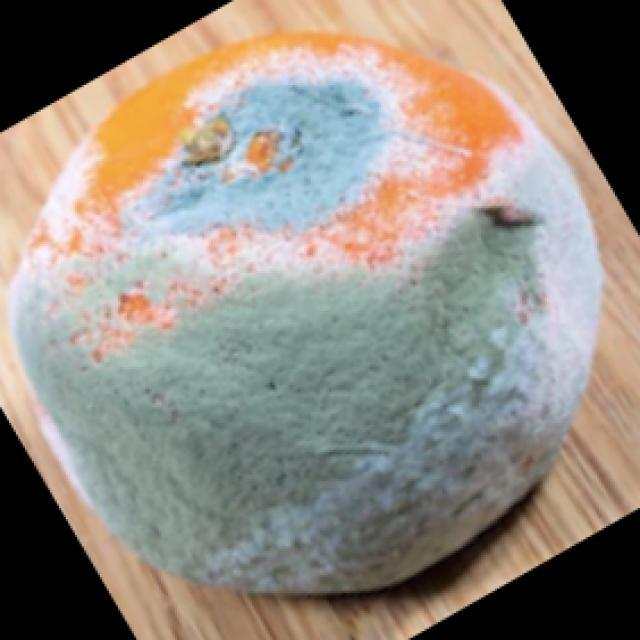sangat-busuk: (11, 32, 603, 592)
